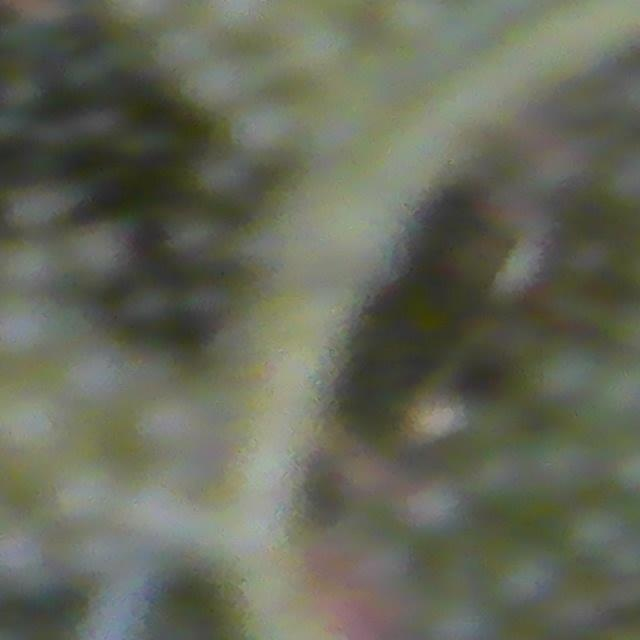SeaGrape: (101, 380, 211, 494), (0, 388, 80, 510), (0, 289, 67, 393), (488, 538, 562, 610), (284, 13, 353, 85), (180, 57, 256, 118), (52, 460, 118, 526), (0, 516, 51, 595), (425, 590, 496, 640)
